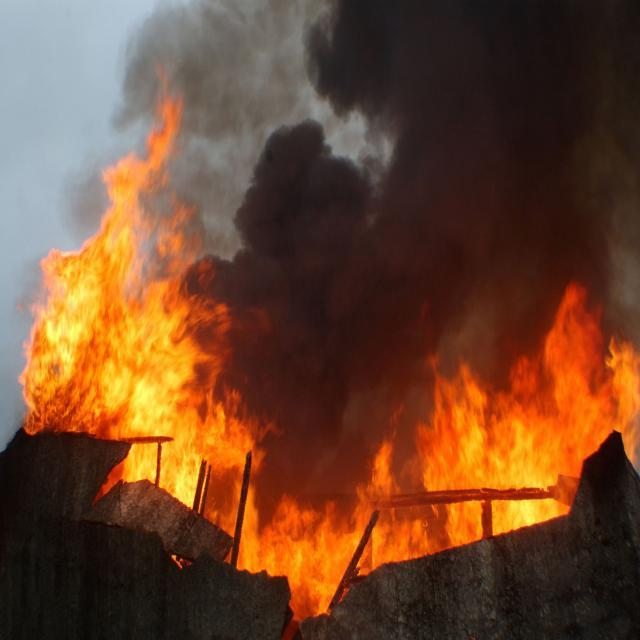Fire: (23, 172, 640, 562)
